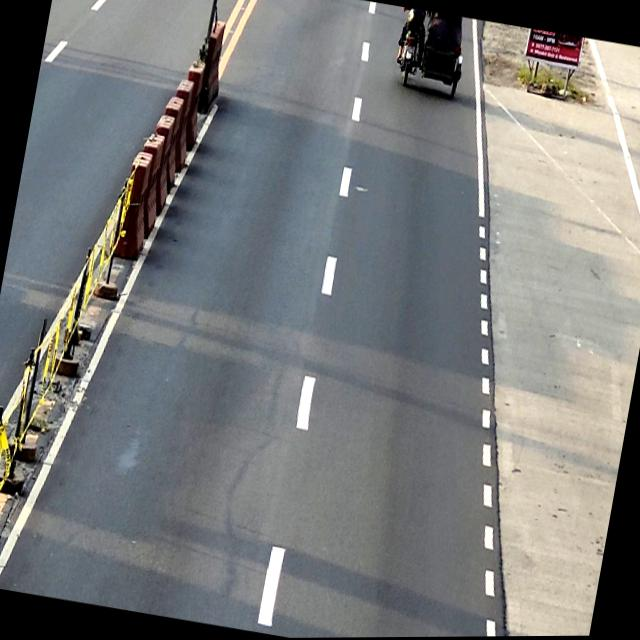Tricycle: (392, 8, 470, 101)
